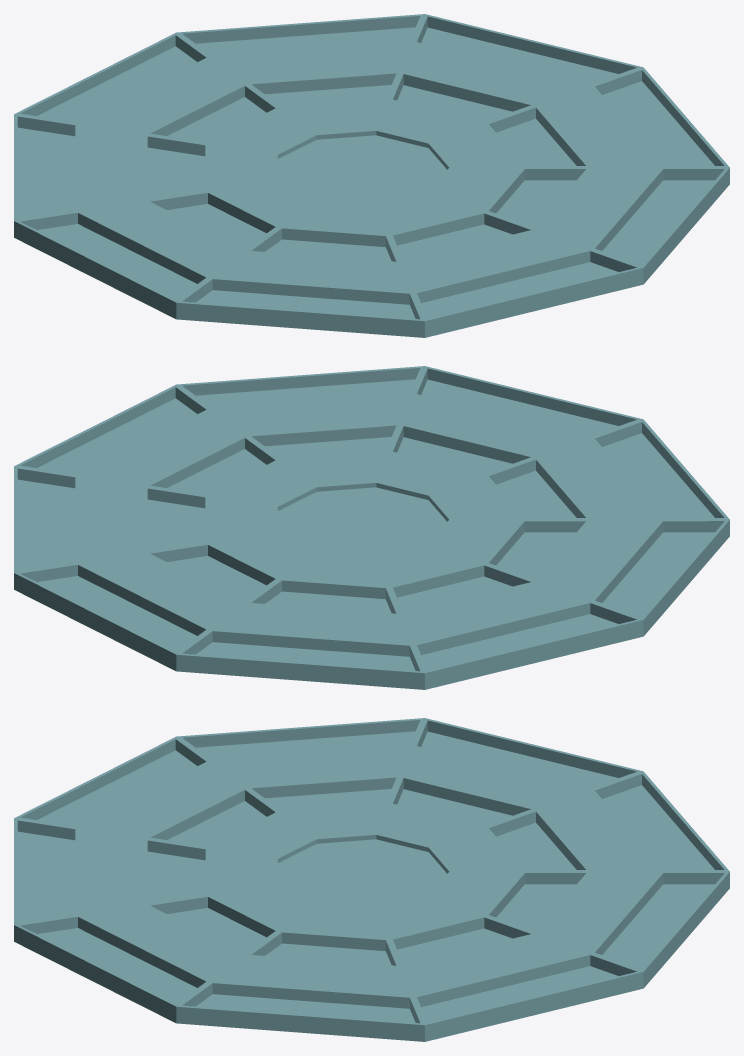
The model's file is floor_base.fbx.
3 renders of one model, top to bottom at view 1: azimuth 30°, elevation 25°; view 2: azimuth 150°, elevation 25°; view 3: azimuth 270°, elevation 25°, orthographic.
Visible parts, largest first — view 1: floor_base; view 2: floor_base; view 3: floor_base.
Part boxes in pixels (x1,y1,x2,y2): floor_base: (14, 14, 729, 337); floor_base: (14, 366, 729, 689); floor_base: (14, 718, 729, 1041).
Size of the model in its own units: 1970 by 50 by 1940.
